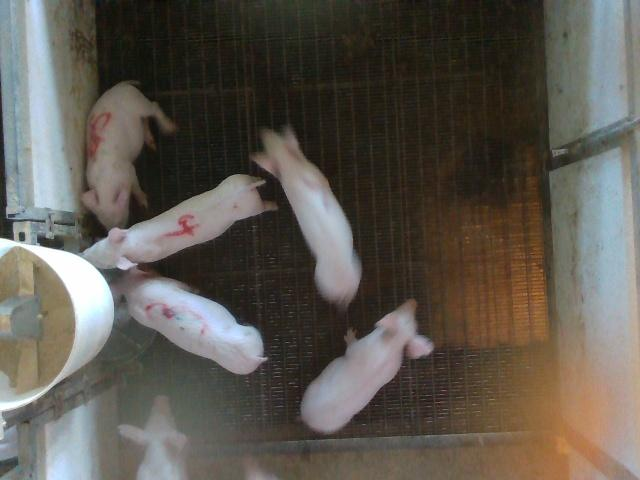pig-2: (251, 126, 361, 309)
pig-3: (111, 268, 266, 373)
pig-4: (81, 175, 276, 269)
pig-5: (82, 81, 176, 229)
